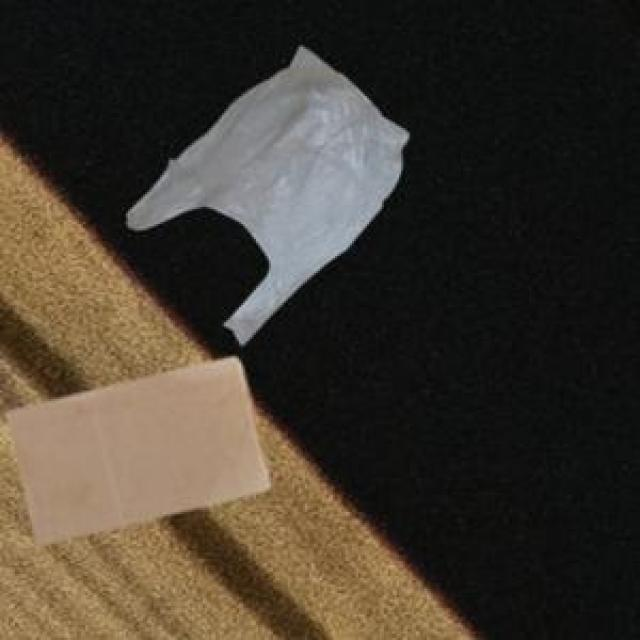paper: (5, 354, 264, 540)
